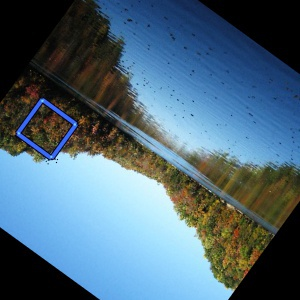square: (12, 95, 81, 164)
